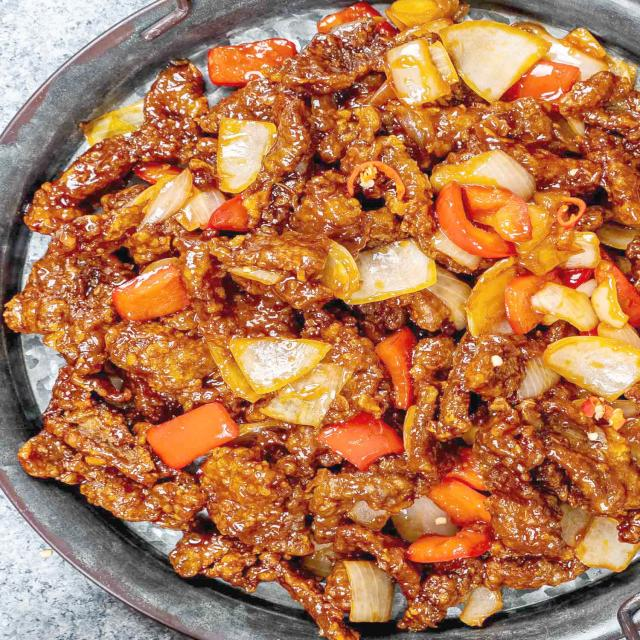Beijing Beef: (6, 0, 638, 632)
